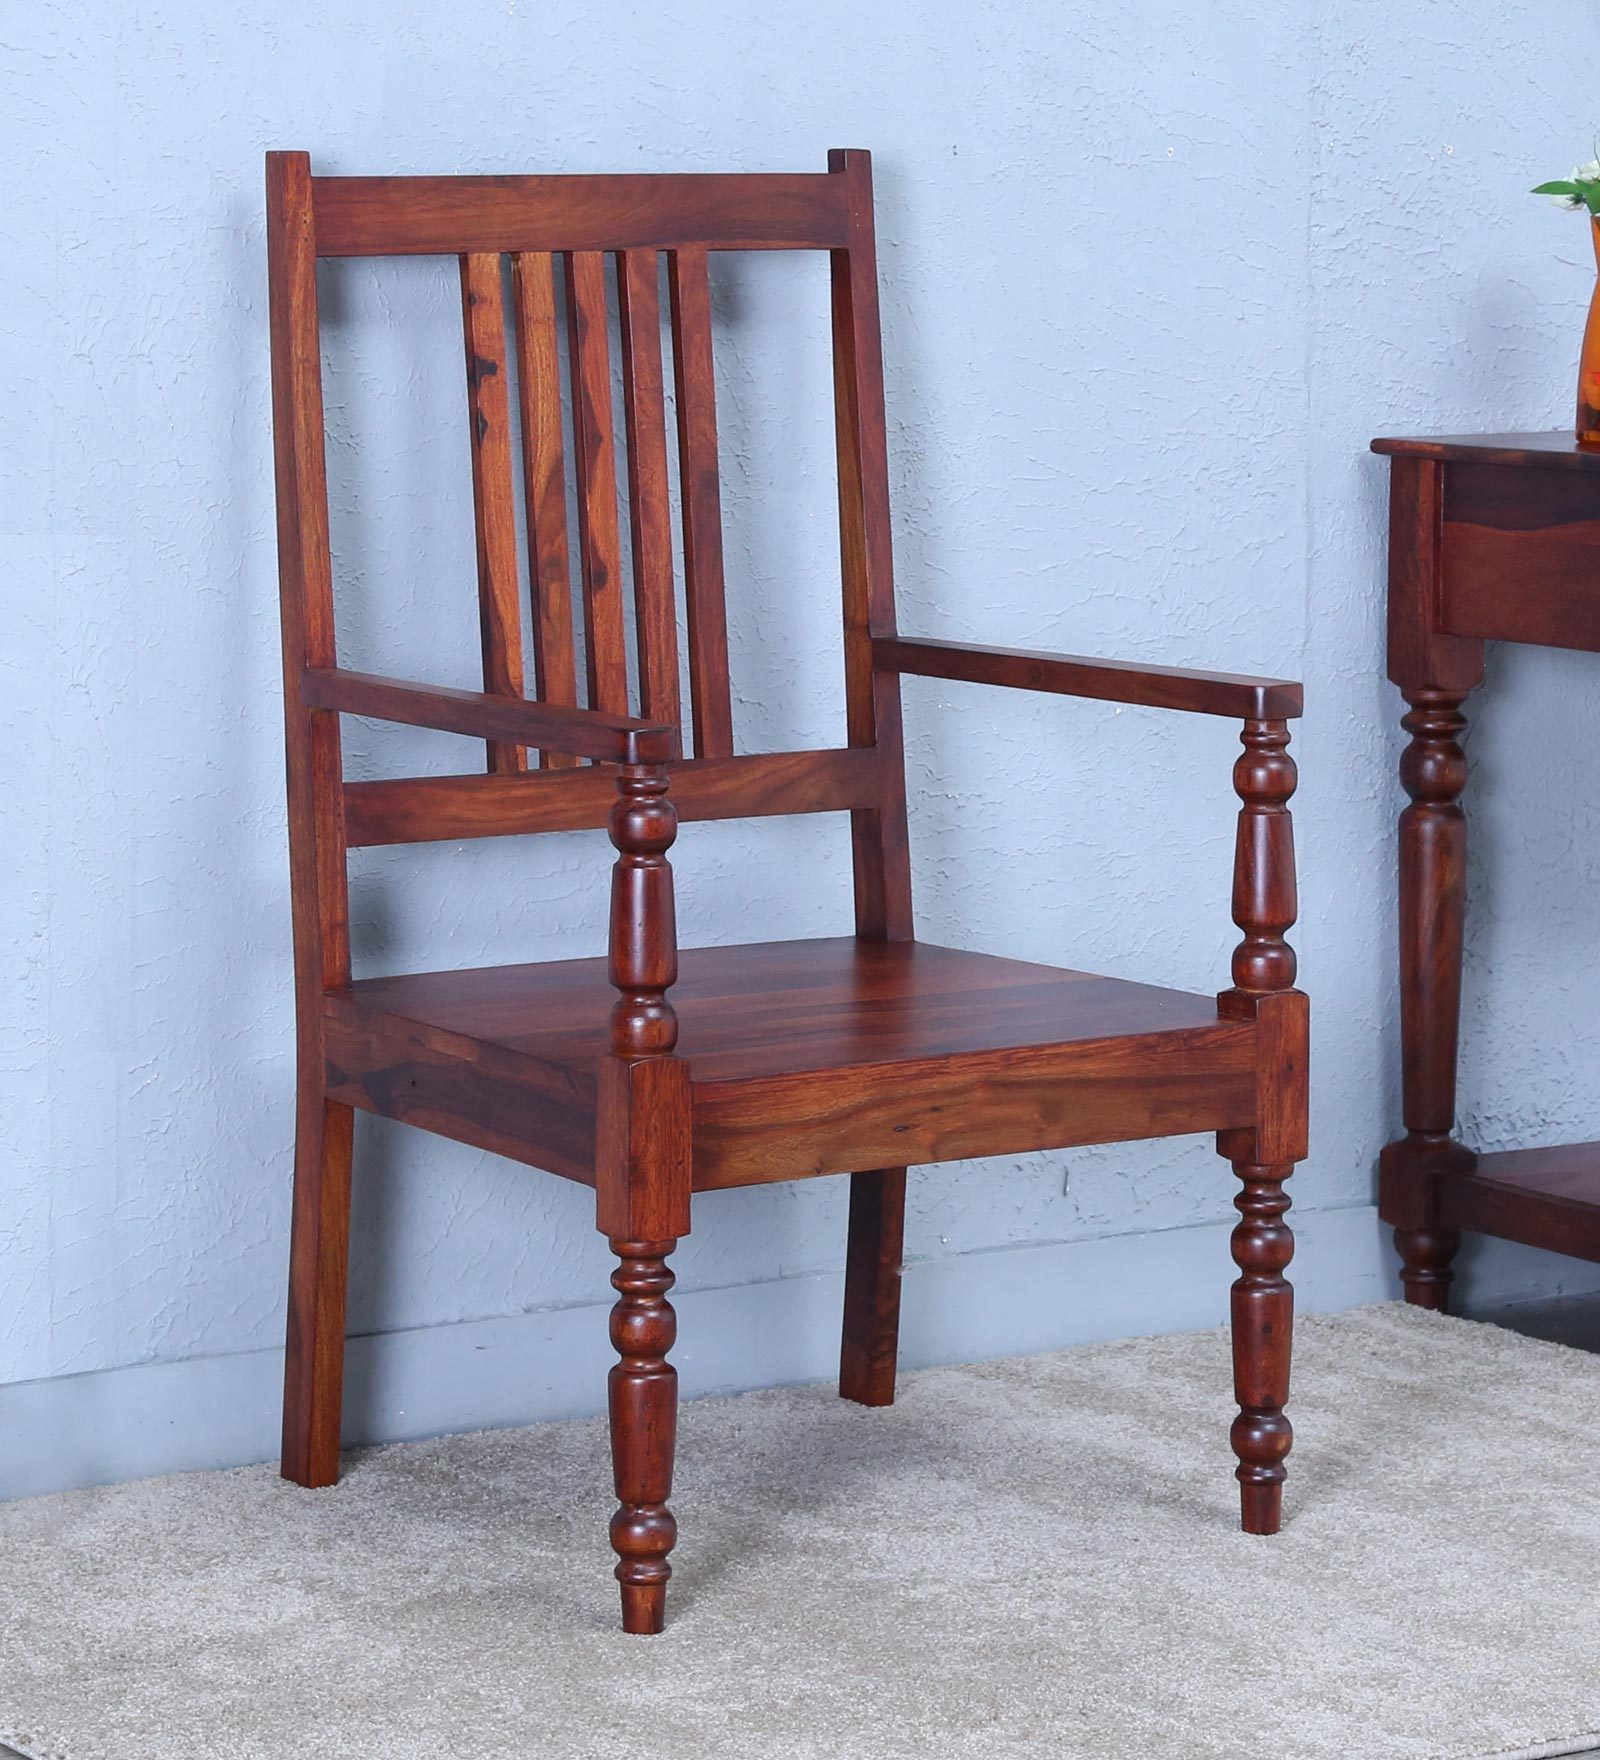Harleston Arm Chair in Honey Oak Finish by Amberville: (215, 130, 1355, 1660)
